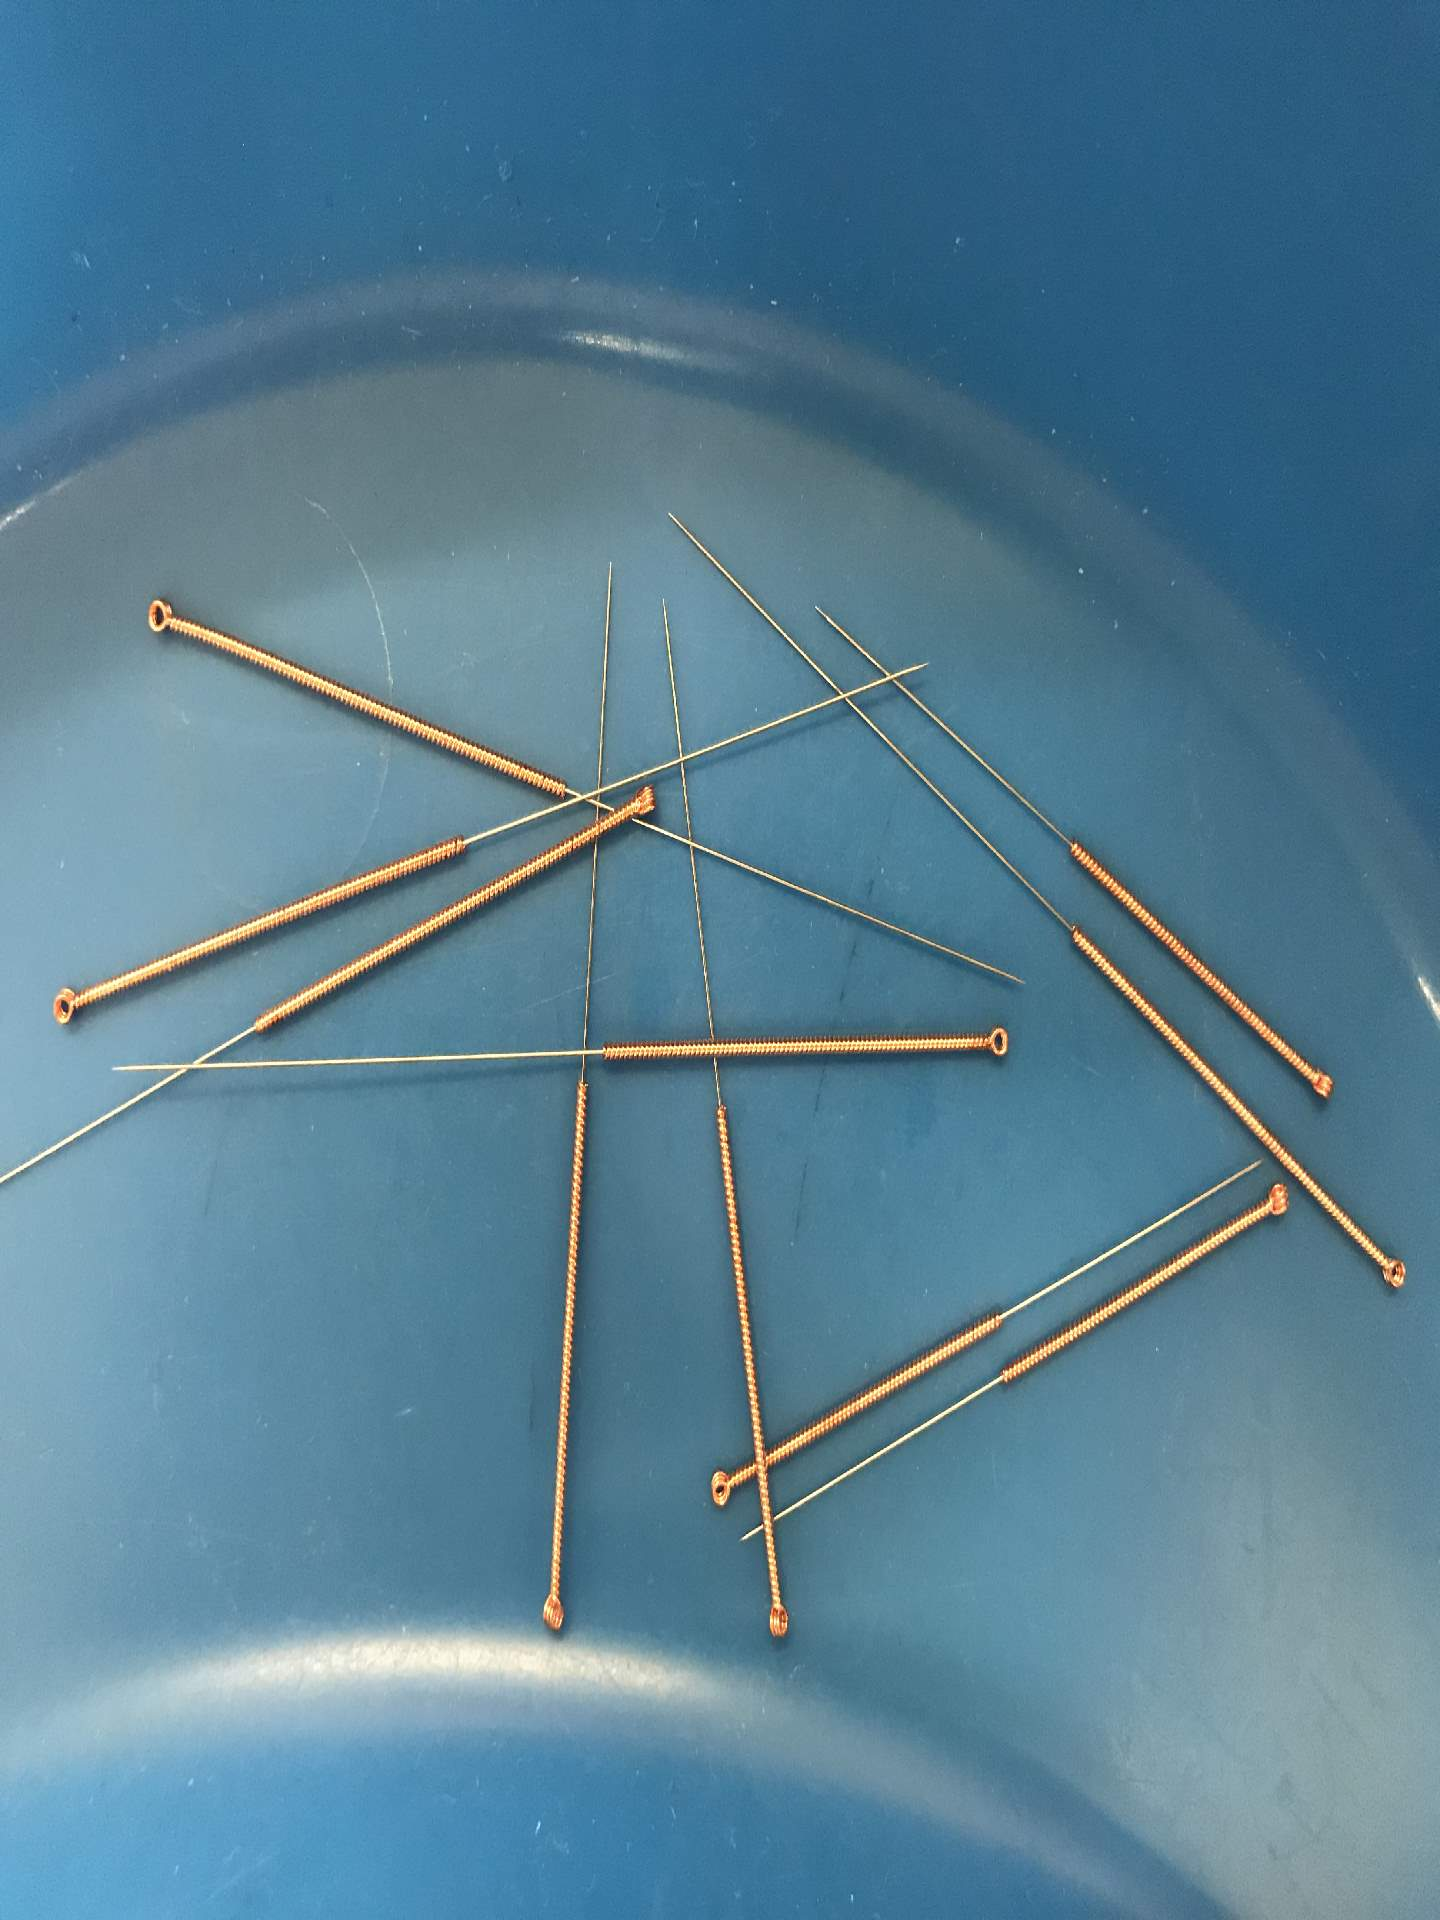needle: (132, 587, 188, 649), (1290, 1051, 1346, 1110), (1366, 1240, 1417, 1303), (967, 1016, 1021, 1073), (753, 1587, 799, 1652), (696, 1457, 744, 1516), (532, 1578, 576, 1643), (42, 977, 89, 1034), (1246, 1178, 1298, 1225), (622, 779, 663, 827)
